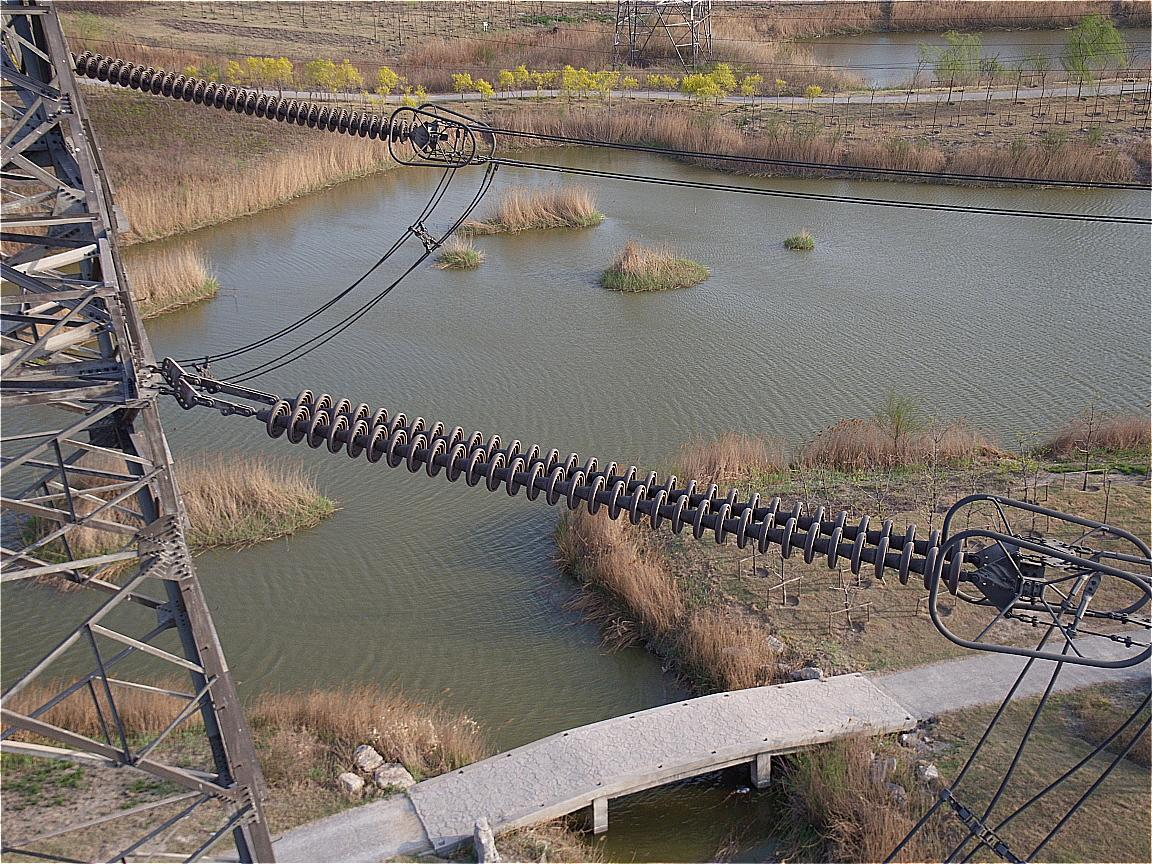insultor1: (259, 378, 957, 592)
